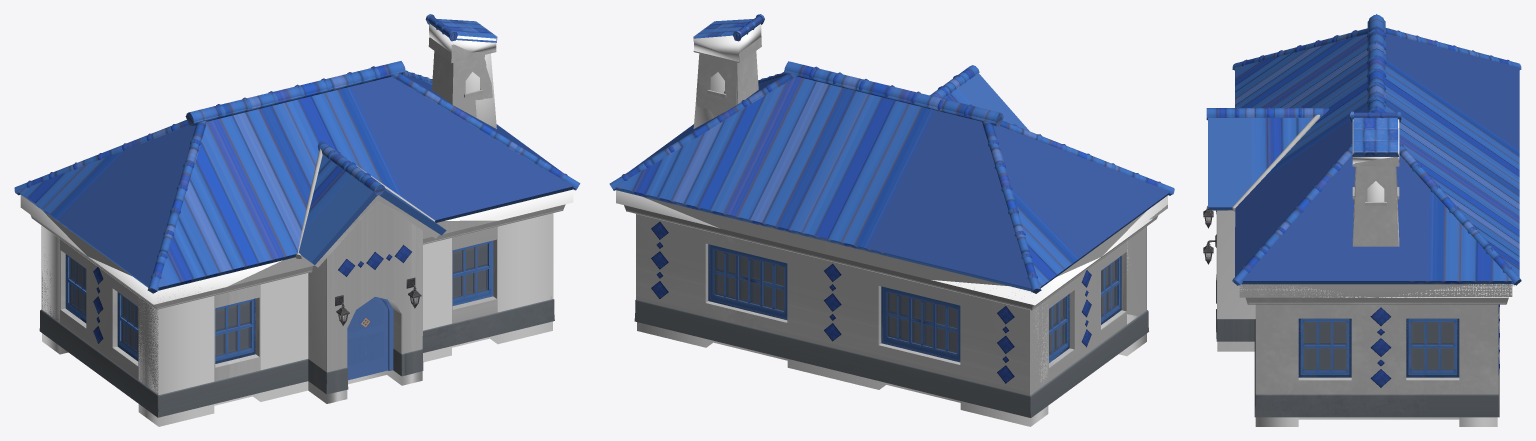
The model's file is objects_un_c02house03_s0.gltf.
3 renders of one model, left to right at view 1: azimuth 30°, elevation 25°; view 2: azimuth 150°, elevation 25°; view 3: azimuth 270°, elevation 25°, orthographic. The views are drawn at different scales.
Parts seen in each view (by area): view 1: um_objects_un_c02house03_s0_model_lod0Shape:objects_un_c02ho (×6), nomerge_objects_un_t03shop01_mesh21_shape:objects_un_c02hous, um_objects_un_c02house03_s0_model_lod1Shape:objects_un_c02ho (×4), um_objects_un_c02house03_s0_model_lod2Shape:objects_un_c02ho (×4); view 2: nomerge_objects_un_t03shop01_mesh21_shape:objects_un_c02hous, um_objects_un_c02house03_s0_model_lod0Shape:objects_un_c02ho (×6), um_objects_un_c02house03_s0_model_lod1Shape:objects_un_c02ho (×4), um_objects_un_c02house03_s0_model_lod2Shape:objects_un_c02ho (×3); view 3: nomerge_objects_un_t03shop01_mesh21_shape:objects_un_c02hous, um_objects_un_c02house03_s0_model_lod0Shape:objects_un_c02ho (×5), um_objects_un_c02house03_s0_model_lod1Shape:objects_un_c02ho (×4), um_objects_un_c02house03_s0_model_lod2Shape:objects_un_c02ho (×3).
Part boxes in pixels (bbox=[...]): um_objects_un_c02house03_s0_model_lod0Shape:objects_un_c02ho (×6): bbox=[14, 14, 579, 426]; nomerge_objects_un_t03shop01_mesh21_shape:objects_un_c02hous: bbox=[18, 19, 573, 290]; um_objects_un_c02house03_s0_model_lod1Shape:objects_un_c02ho (×4): bbox=[14, 15, 579, 381]; um_objects_un_c02house03_s0_model_lod2Shape:objects_un_c02ho (×4): bbox=[30, 59, 565, 380]; nomerge_objects_un_t03shop01_mesh21_shape:objects_un_c02hous: bbox=[615, 19, 1170, 291]; um_objects_un_c02house03_s0_model_lod0Shape:objects_un_c02ho (×6): bbox=[610, 14, 1174, 426]; um_objects_un_c02house03_s0_model_lod1Shape:objects_un_c02ho (×4): bbox=[609, 32, 1174, 395]; um_objects_un_c02house03_s0_model_lod2Shape:objects_un_c02ho (×3): bbox=[624, 62, 1157, 394]; nomerge_objects_un_t03shop01_mesh21_shape:objects_un_c02hous: bbox=[1208, 34, 1519, 284]; um_objects_un_c02house03_s0_model_lod0Shape:objects_un_c02ho (×5): bbox=[1206, 15, 1521, 426]; um_objects_un_c02house03_s0_model_lod1Shape:objects_un_c02ho (×4): bbox=[1206, 14, 1521, 394]; um_objects_un_c02house03_s0_model_lod2Shape:objects_un_c02ho (×3): bbox=[1245, 166, 1508, 377].
Size of what is drawn, in the model's own units: 12.52 by 7.72 by 7.72.
Materials: 12 (8 with a texture image).
